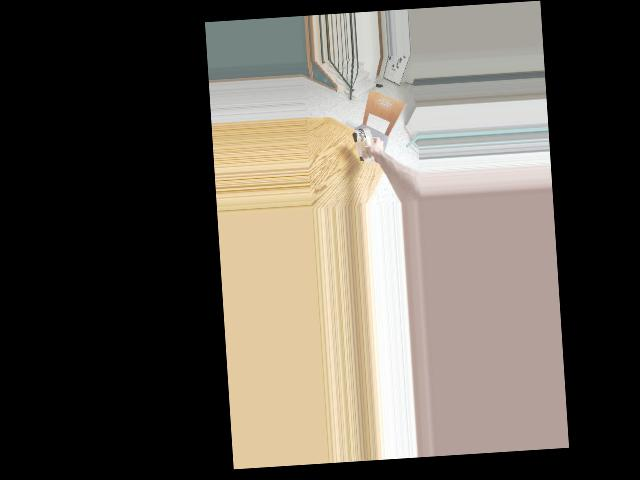cheese: (352, 128, 376, 163)
